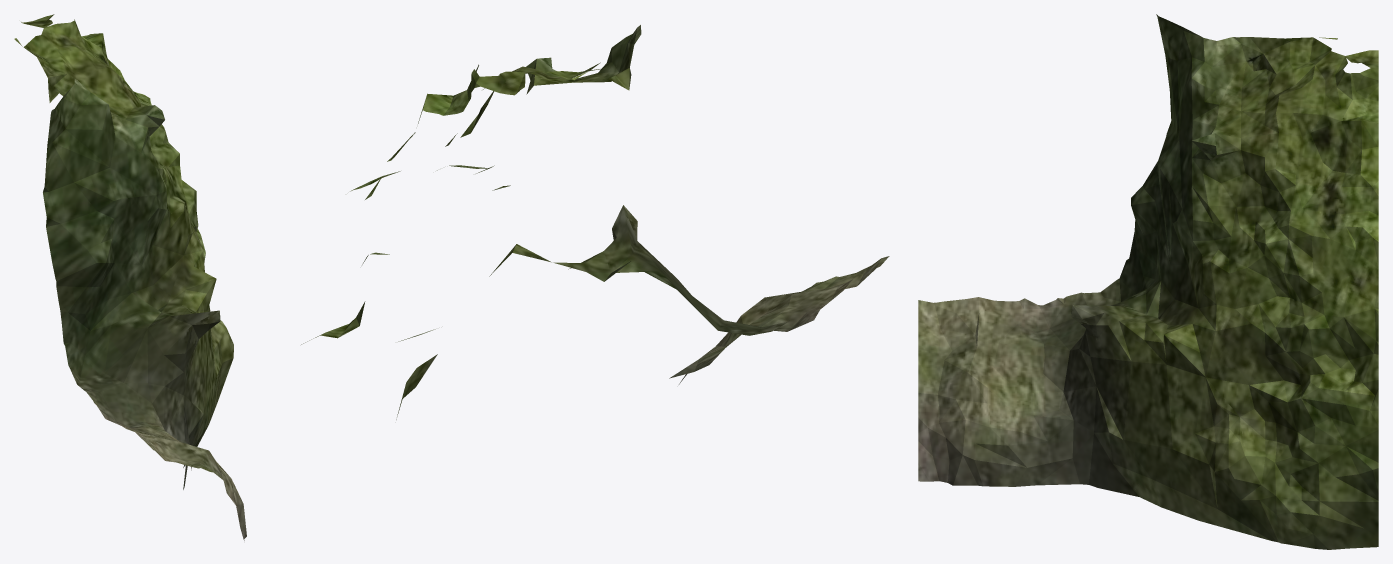
The picture shows the model from 3 angles, left to right: view 1: azimuth 30°, elevation 25°; view 2: azimuth 150°, elevation 25°; view 3: azimuth 270°, elevation 25°; orthographic projection. The views are drawn at different scales.
Bounding box in the file's own units: 1.99 × 2.95 × 2.95.
Materials: 3 (3 with a texture image).
